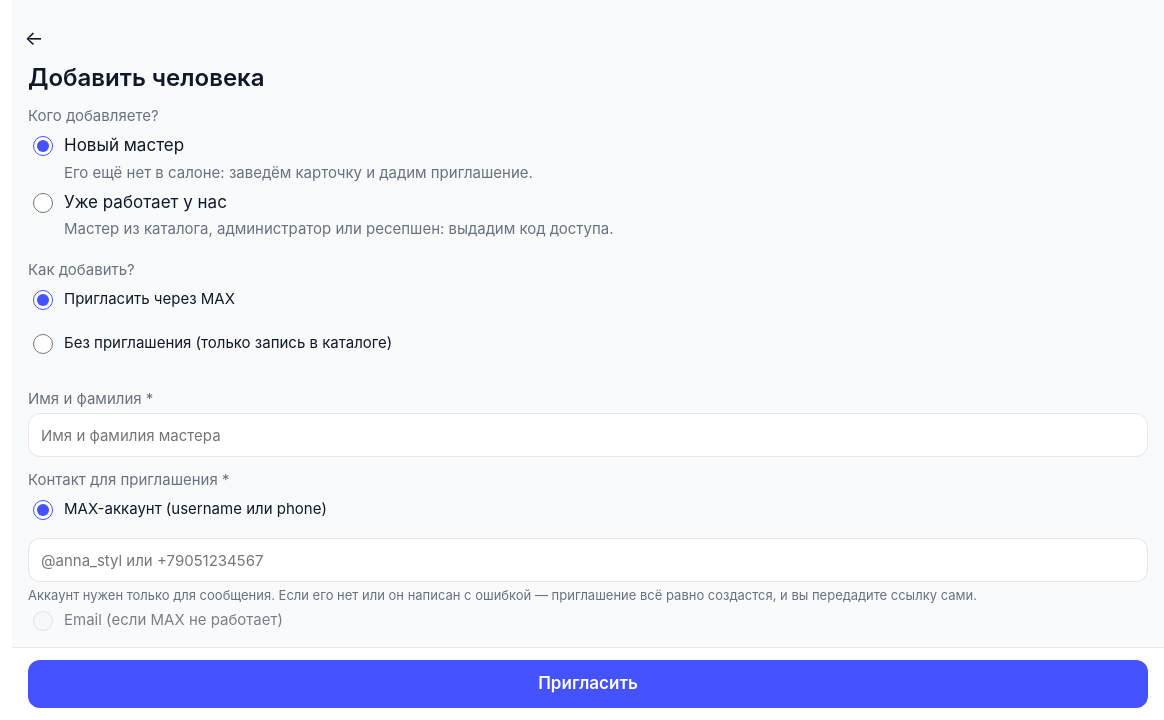
Test: поле называет сервер, а не наш разбор текста › поле не названо → общая плашка, и ни одно поле не помечено чужим отказом
Type "Анна Петрова" into the field labelled "Имя и фамилия *".
click(588, 435); type("Анна Петрова")  # box [28, 413, 1148, 457]
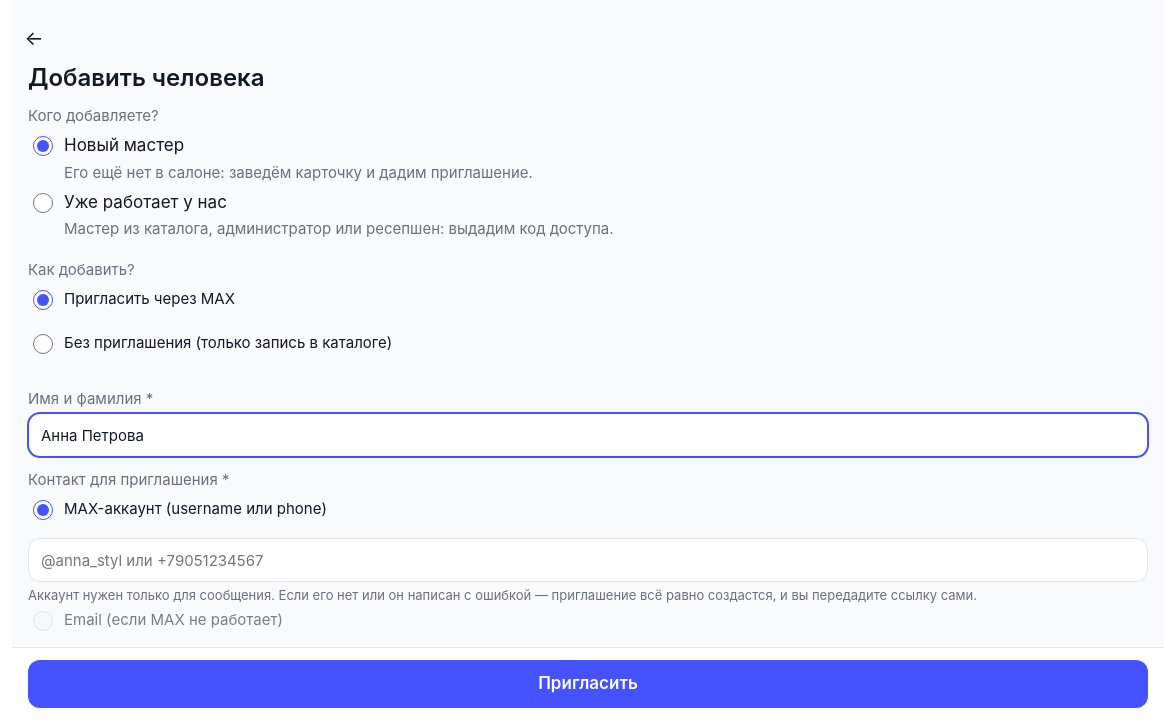
Type "@anna_styl" into the field with placeholder "@anna_styl или +79051234567".
click(588, 560); type("@anna_styl")  # box [28, 538, 1148, 582]
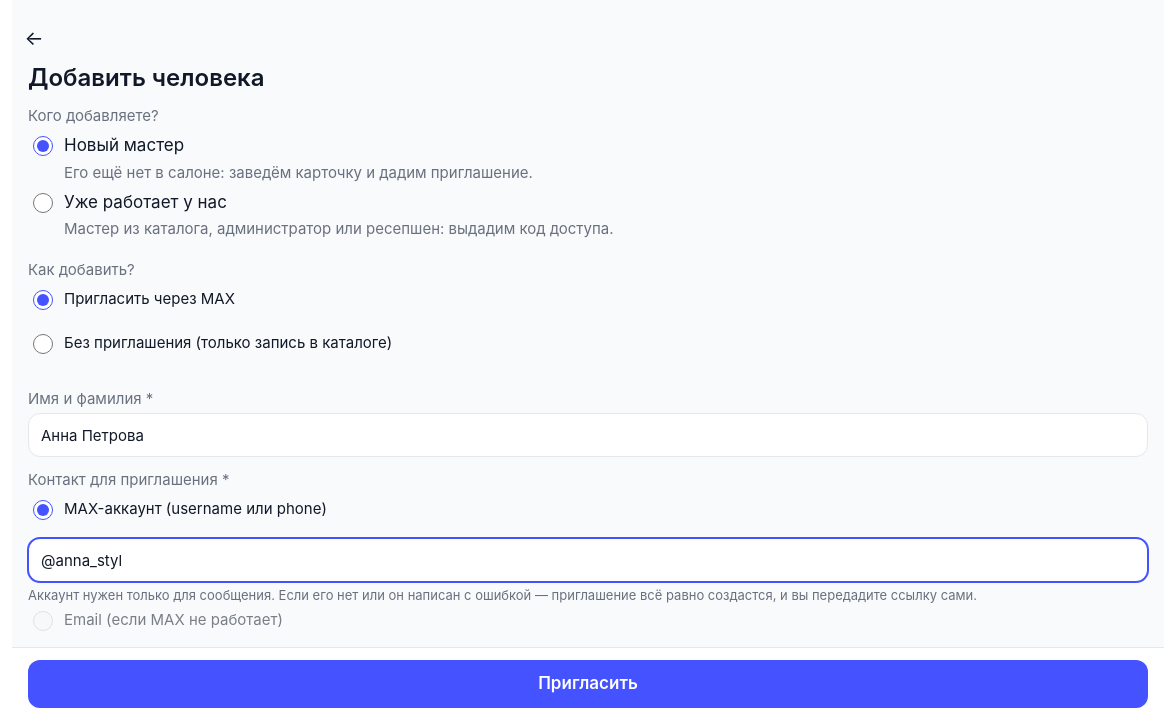
Click the button "Пригласить".
click(588, 684)  # box [28, 660, 1148, 708]
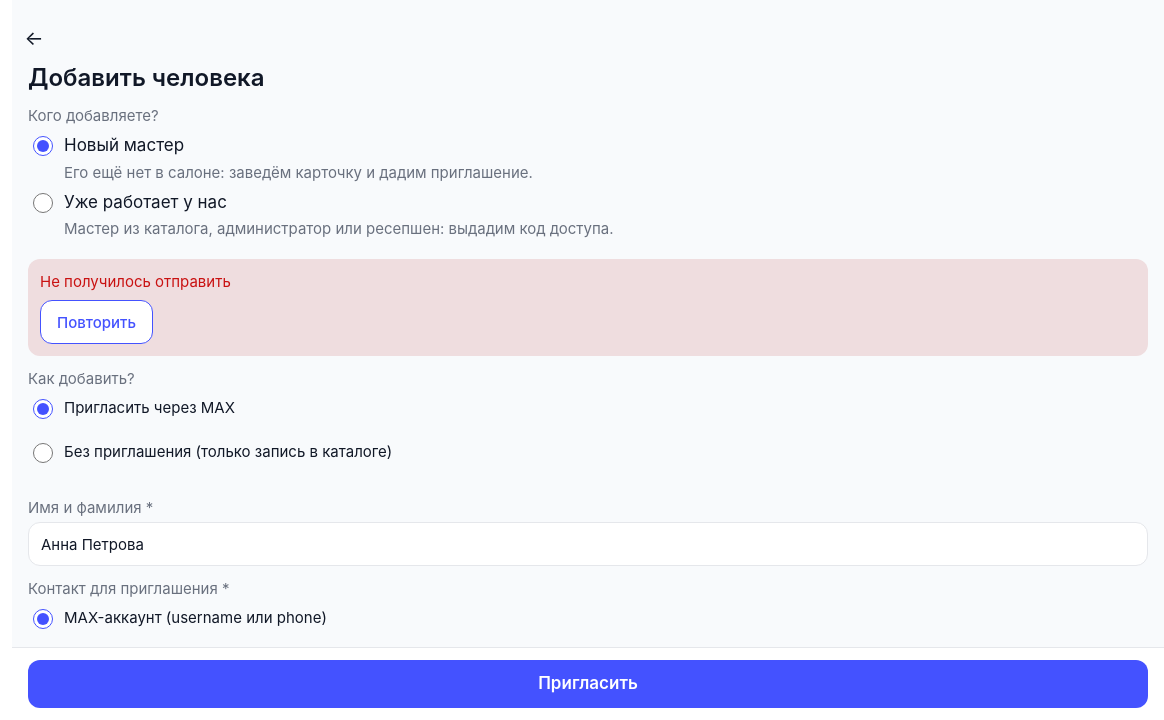
Expected: the text "Не получилось отправить" is shown, [40, 272, 231, 291]
